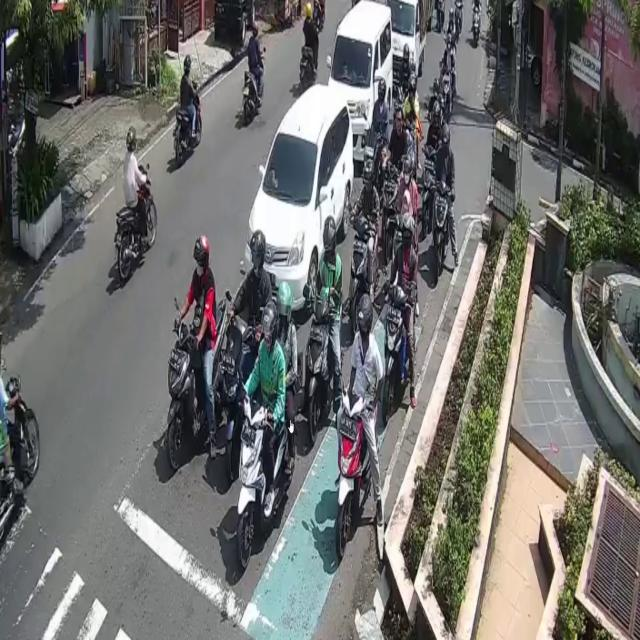bus: (163, 297, 234, 474), (237, 396, 290, 568), (0, 378, 39, 540), (337, 387, 372, 555), (114, 165, 158, 281), (305, 298, 333, 447), (383, 290, 412, 429), (173, 80, 202, 164), (352, 213, 377, 304), (434, 184, 453, 276), (241, 67, 264, 124)
motorcycle: (243, 81, 354, 319), (329, 0, 394, 162), (388, 0, 427, 84)
